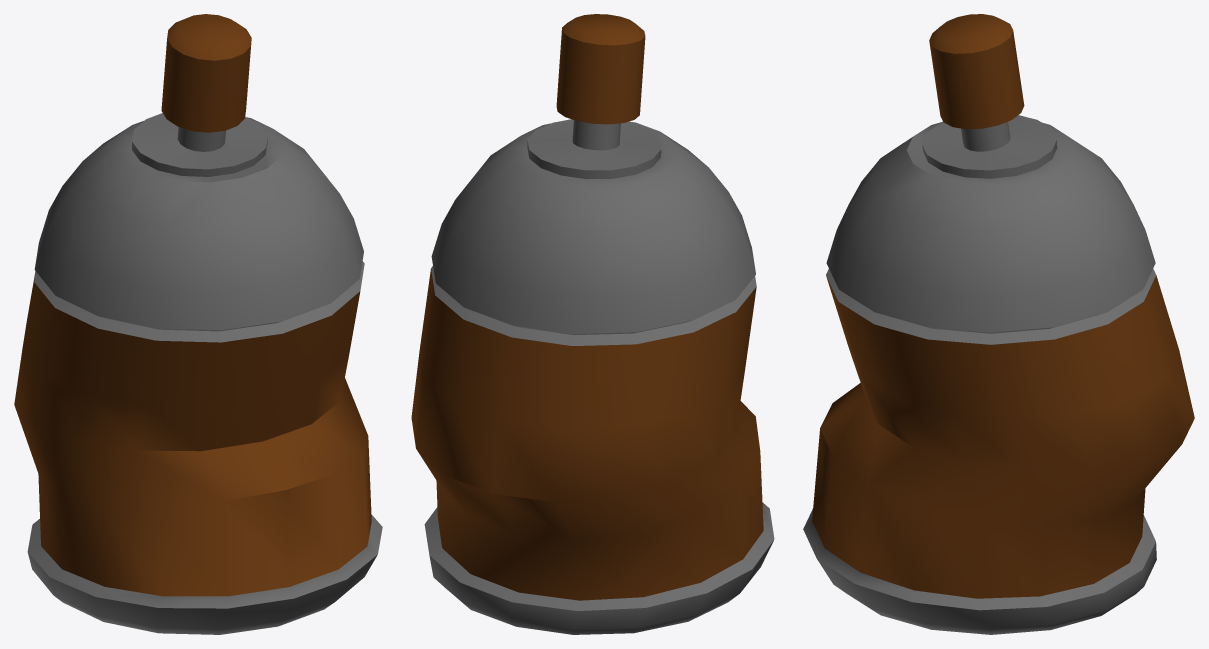
File: Spray_02.fbx
The picture shows the model from 3 angles, left to right: view 1: azimuth 30°, elevation 25°; view 2: azimuth 150°, elevation 25°; view 3: azimuth 270°, elevation 25°; orthographic projection.
Parts seen in each view (by area): view 1: Spray_02; view 2: Spray_02; view 3: Spray_02.
Part boxes in pixels (x1,y1,x2,y2): Spray_02: (14, 14, 382, 634); Spray_02: (411, 14, 774, 634); Spray_02: (803, 14, 1194, 634).
Size of the model in its own units: 29.06 by 49.17 by 32.03.
